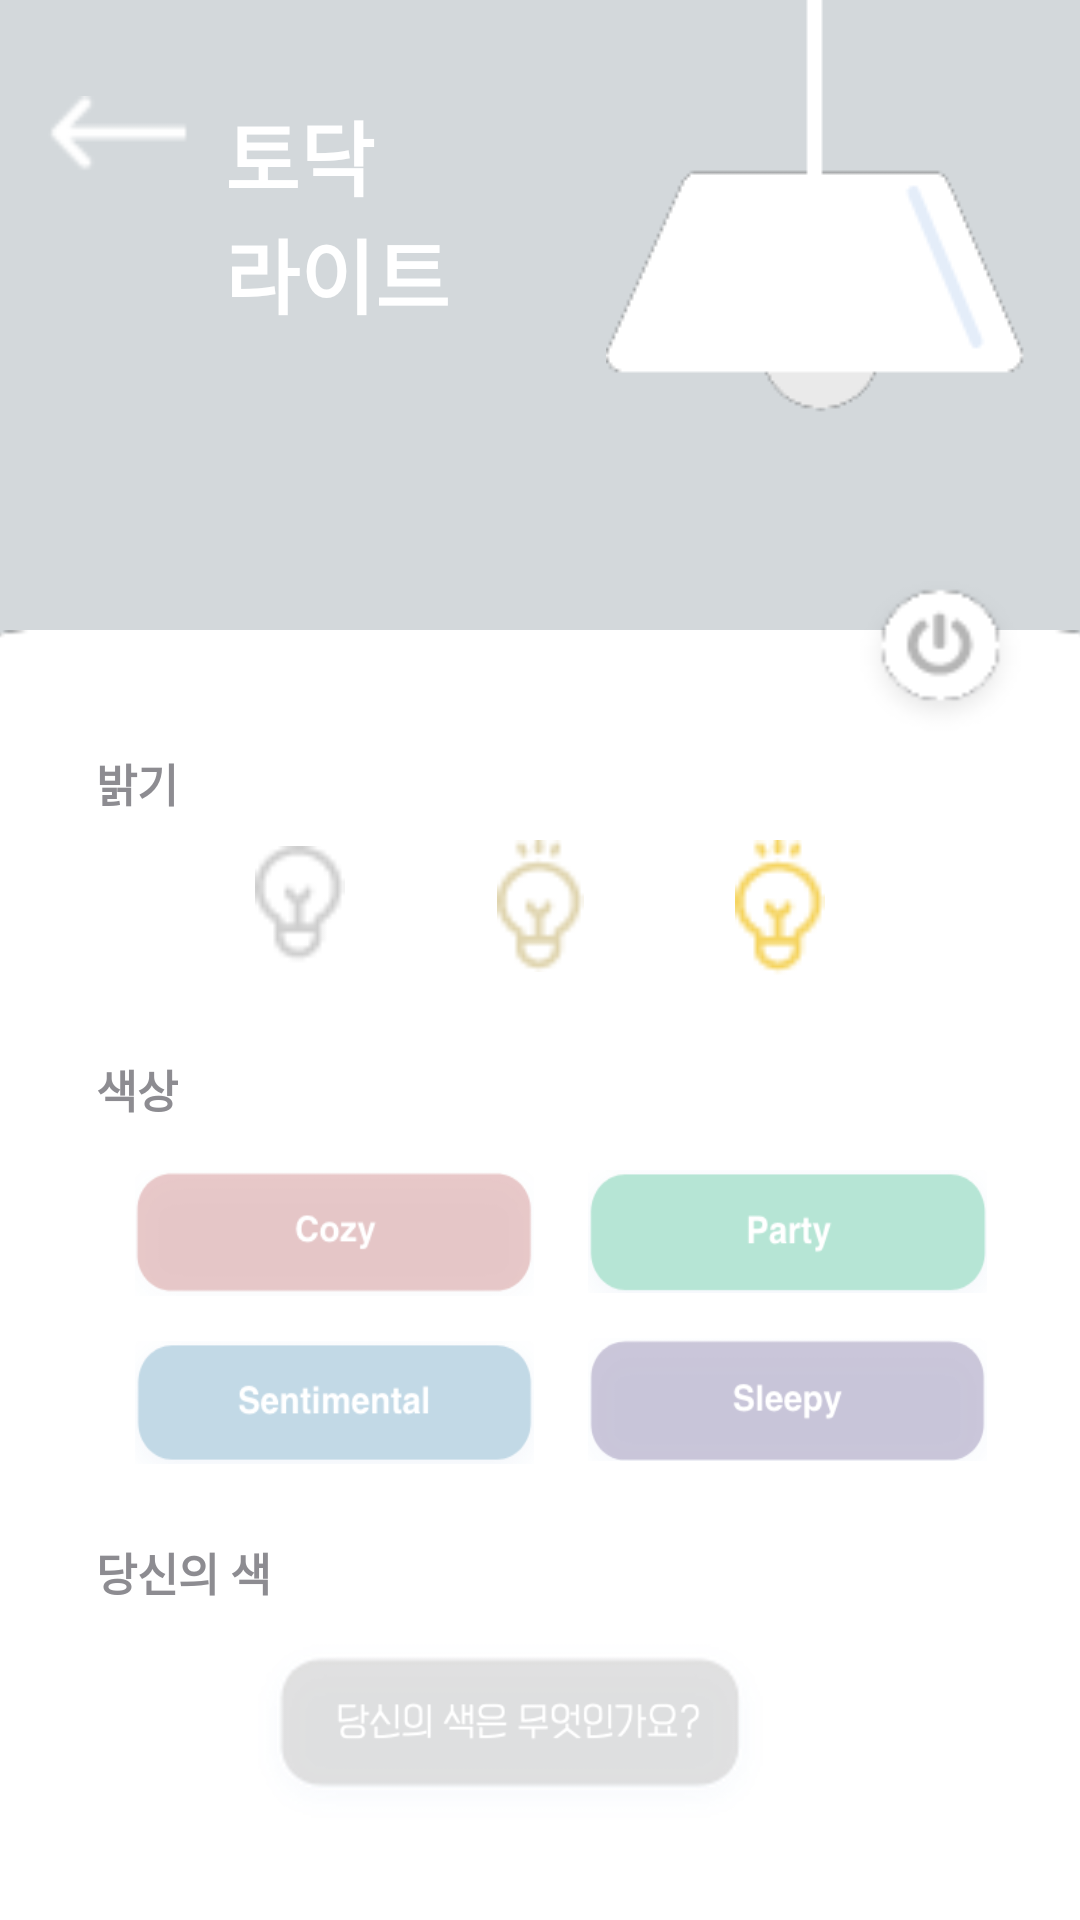

Icon click points for this 1080 x 1920 phone screenshot, format (x,y):
arrow: (118,132)
bulb: (780,906), (298,901)
bulb middle: (539,904)
iot powerbtn off: (940,655)
